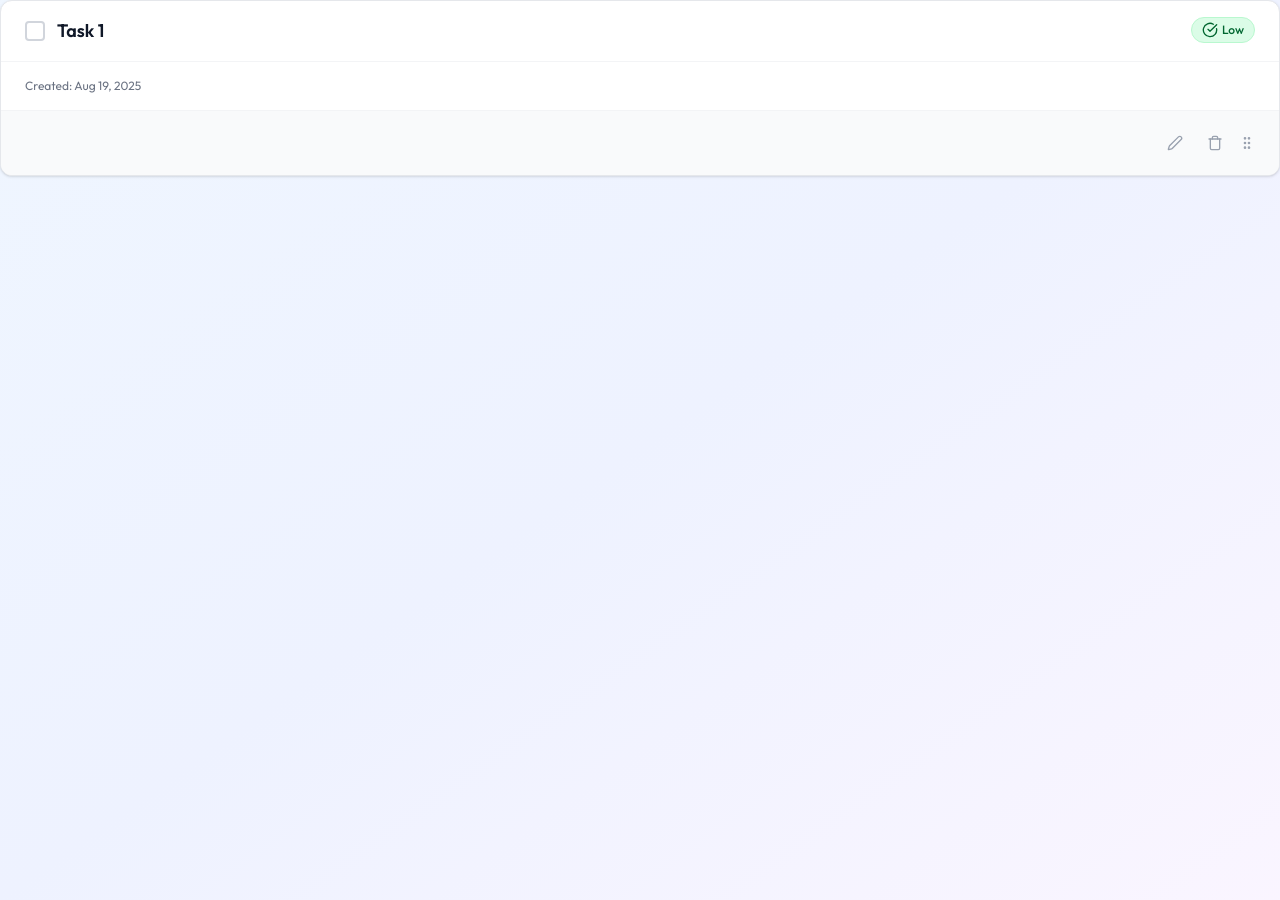
Test: TaskListItem › should edit and display the form
Expected: the number of list items is 1, [0, 0, 1279, 176]
Step 1. Click the button named "Edit task" → {"x": 1175, "y": 143}, box [1159, 127, 1191, 159]
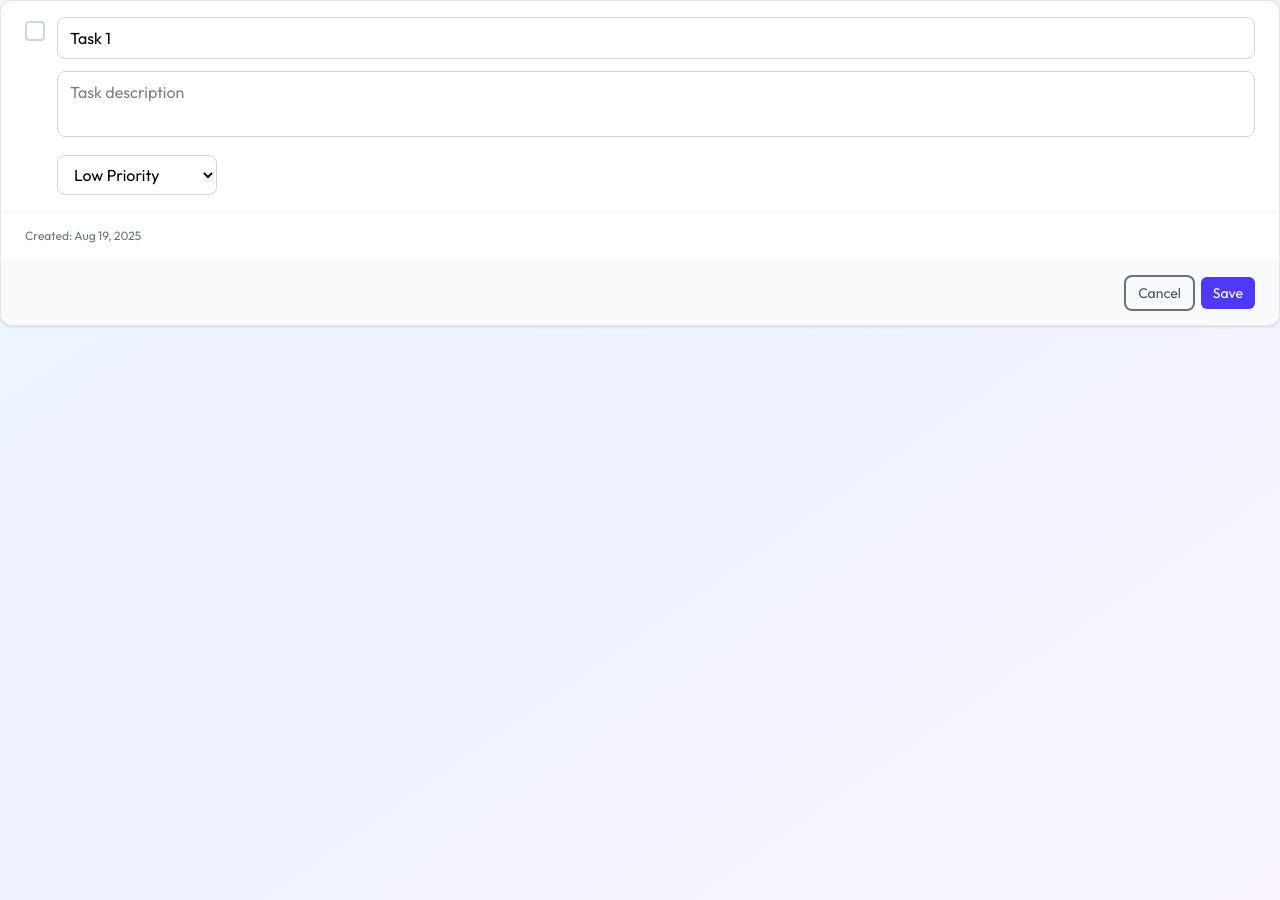
Now the field named "Edit task title" is shown, box [57, 17, 1255, 59]
